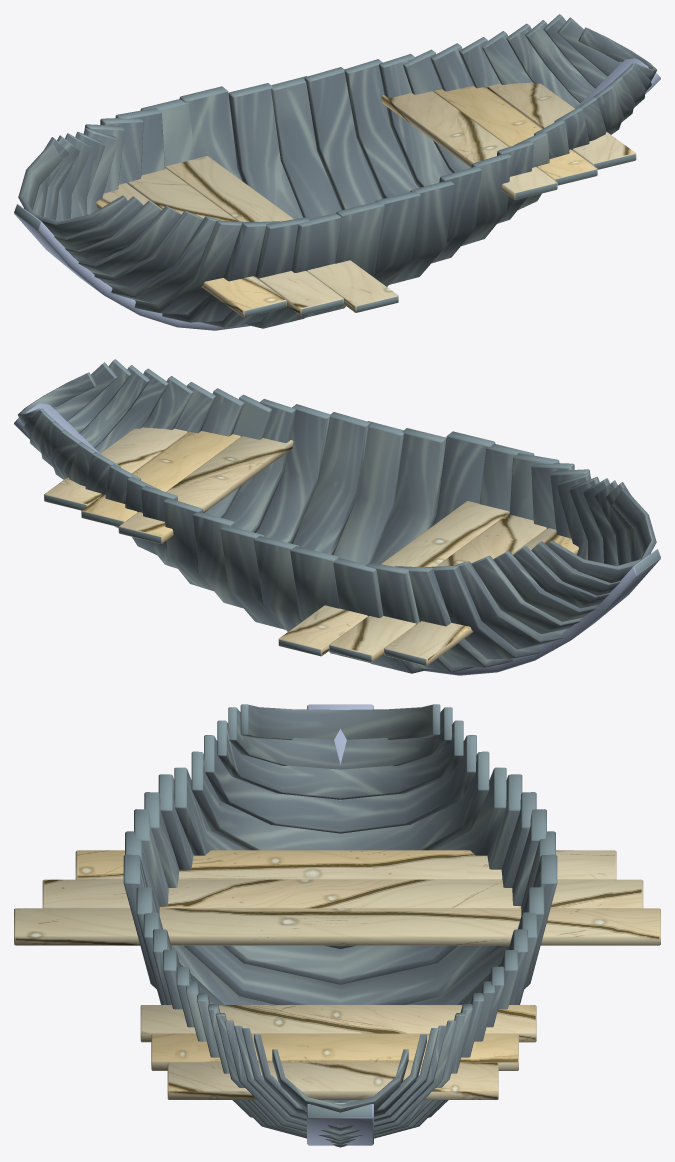
Rendered from Gondola.fbx.
3 renders of one model, top to bottom at view 1: azimuth 30°, elevation 25°; view 2: azimuth 150°, elevation 25°; view 3: azimuth 270°, elevation 25°, orthographic. The views are drawn at different scales.
Visible parts, largest first — view 1: WoodPlank.026; view 2: WoodPlank.026; view 3: WoodPlank.026.
Boxes of the visible parts, left/top/right/bottom form: WoodPlank.026: left=14, top=14, right=660, bottom=330; WoodPlank.026: left=14, top=359, right=660, bottom=675; WoodPlank.026: left=14, top=704, right=660, bottom=1147.
Bounding box in the file's own units: 3.71 × 1.08 × 2.5.
